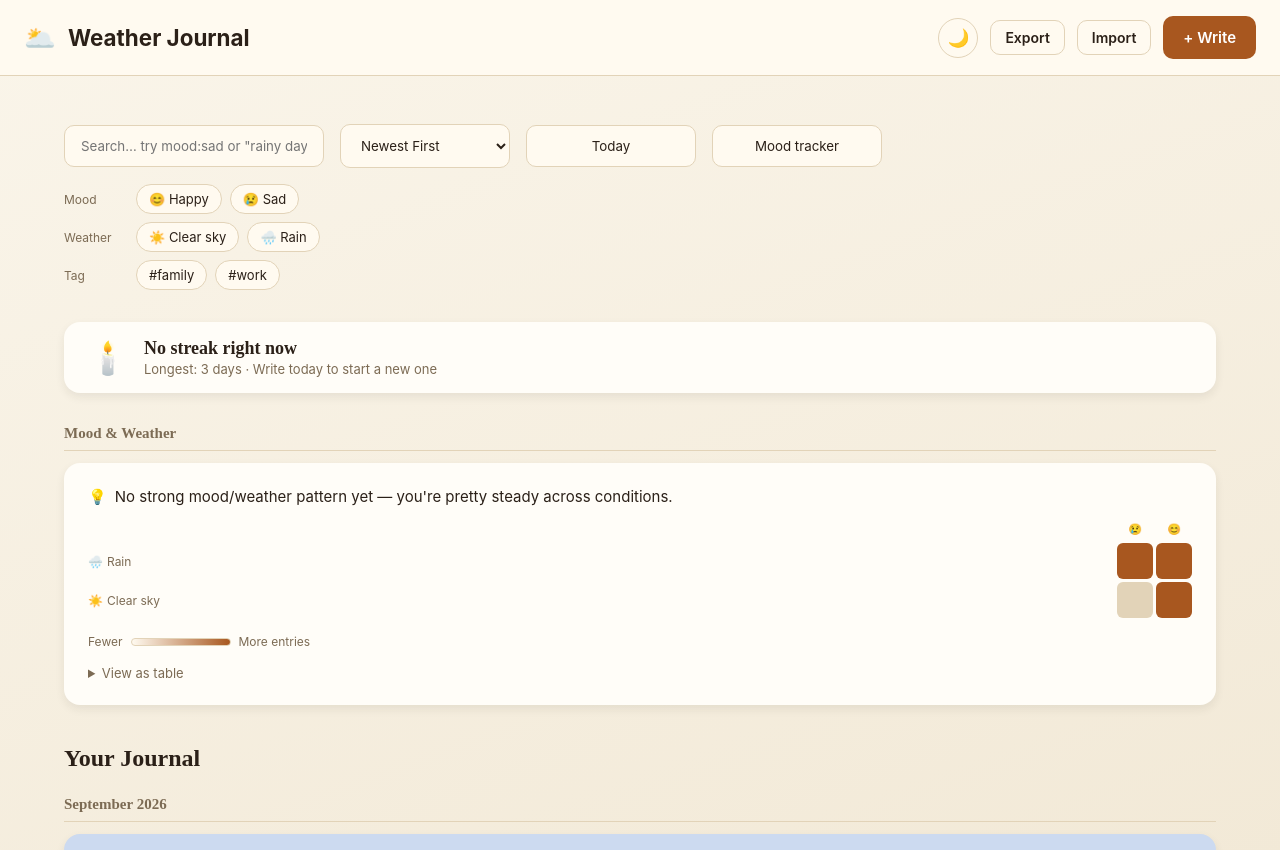
it: Dashboard filters › filters by tag
Click the button "#family": point(172, 275) [136,260,207,290]
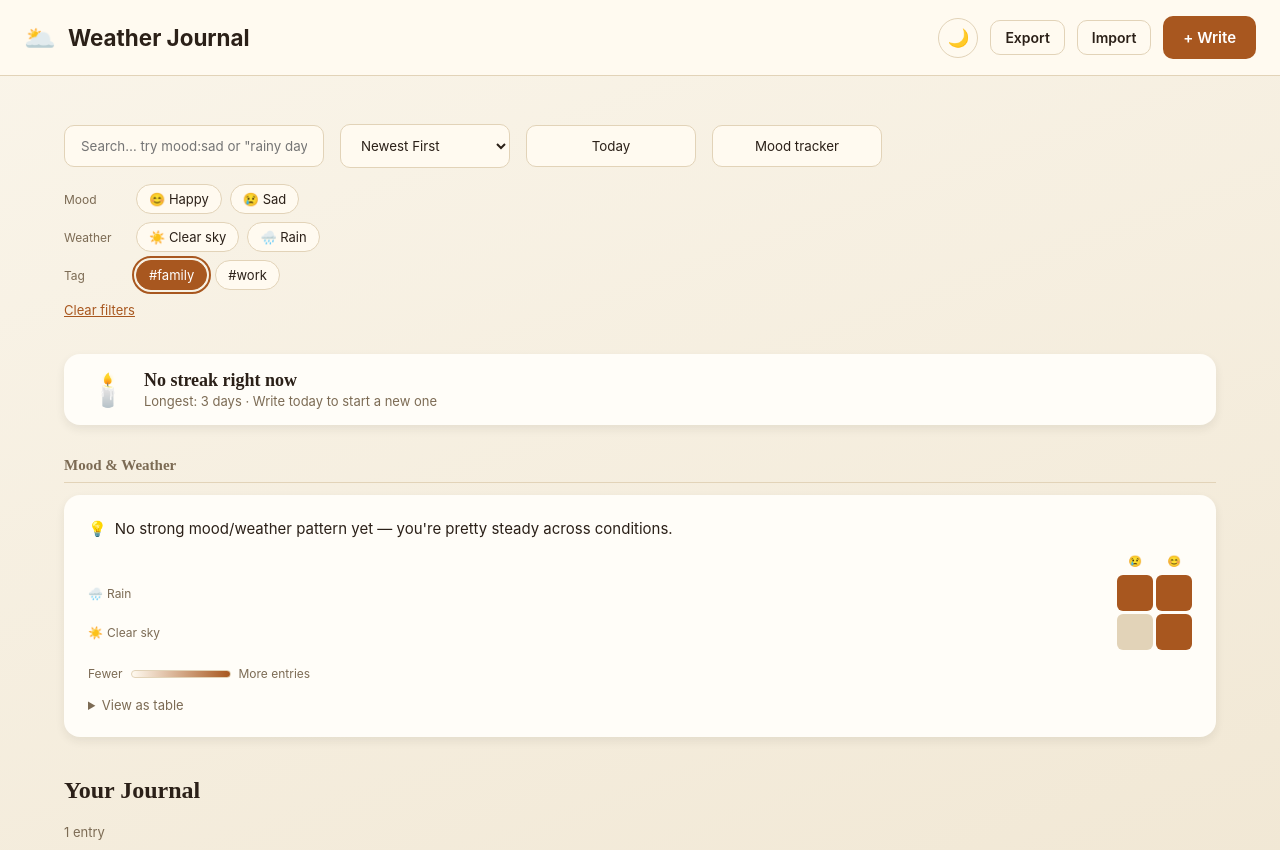
Result: the message reads "1 entry" at [64,824,105,840]
